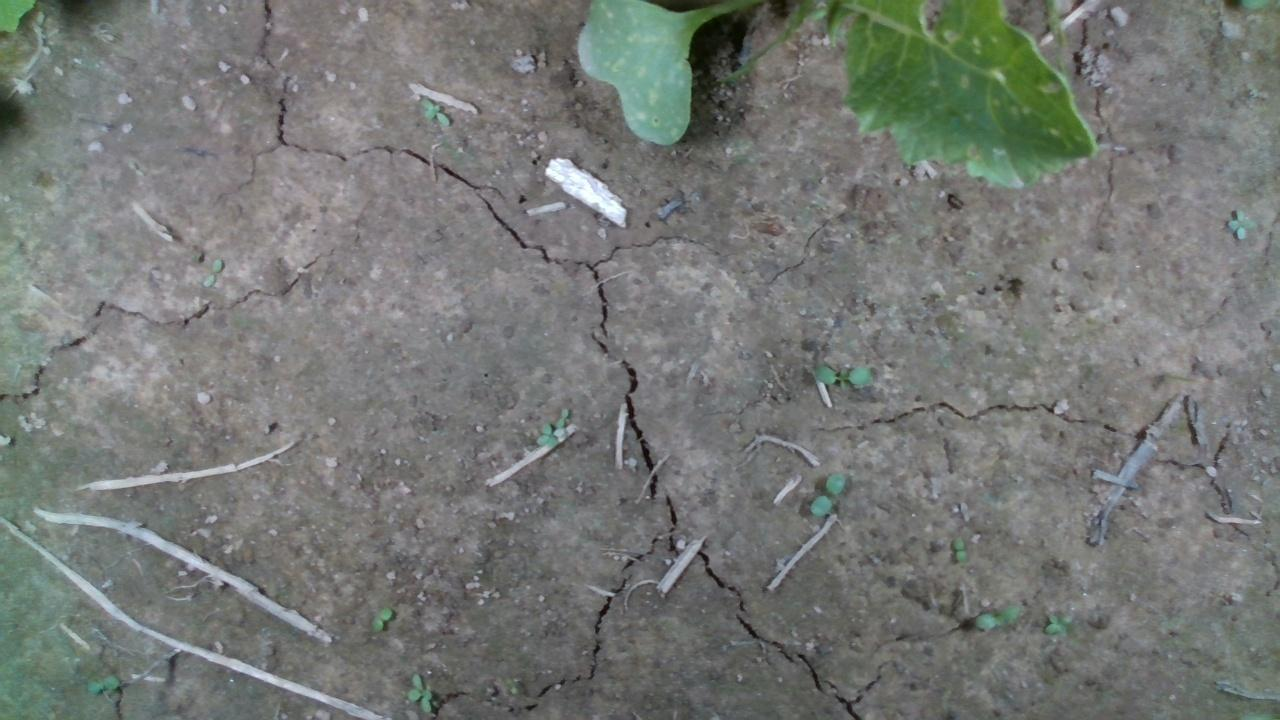weed: (812, 363, 871, 389)
